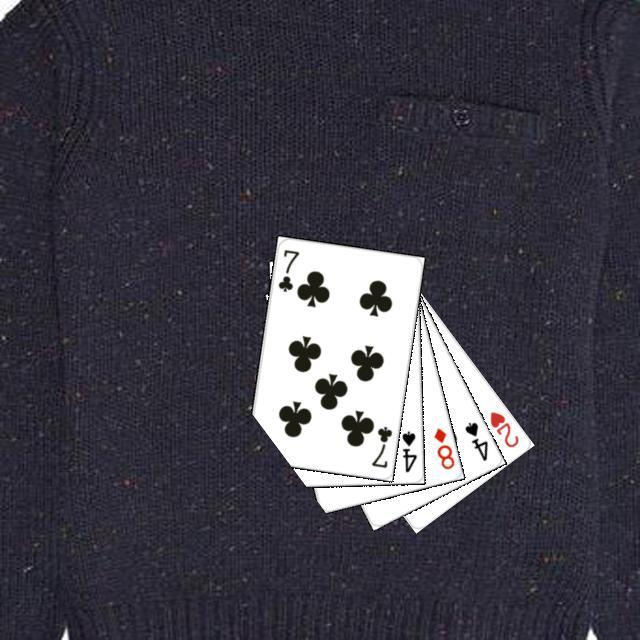2h: (485, 406, 520, 449)
4s: (460, 417, 490, 463), (397, 426, 418, 474)
7c: (366, 421, 394, 470), (273, 245, 301, 293)
8d: (429, 423, 456, 471)
